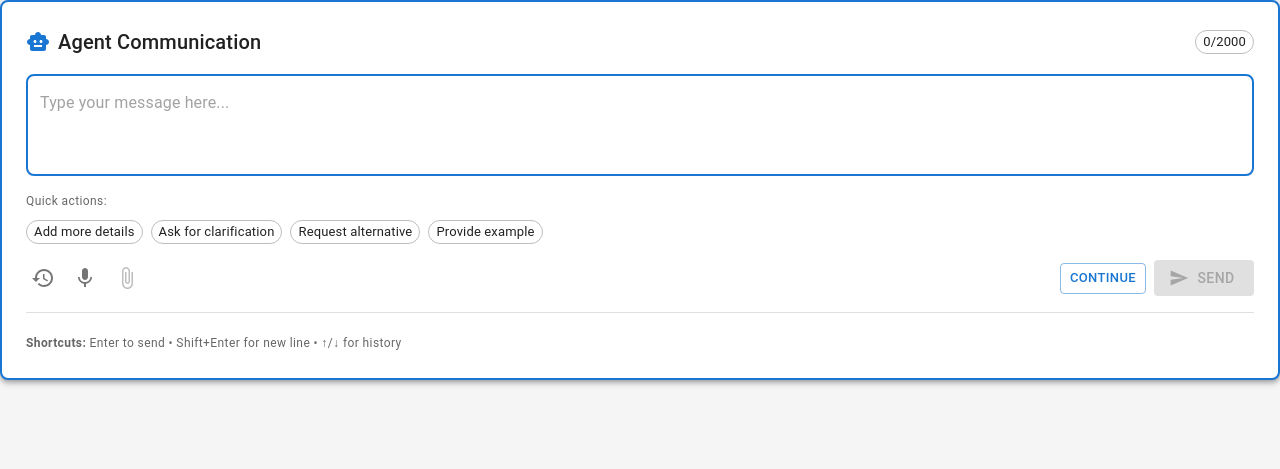
Test case: UserInputPanel › Error Handling › handles submission failure gracefully
The width and height of the screenshot is (1280, 469).
Type "Test message" into the text box with placeholder "Type your message here..." at x=640, y=125, box [40,90,1240,160]
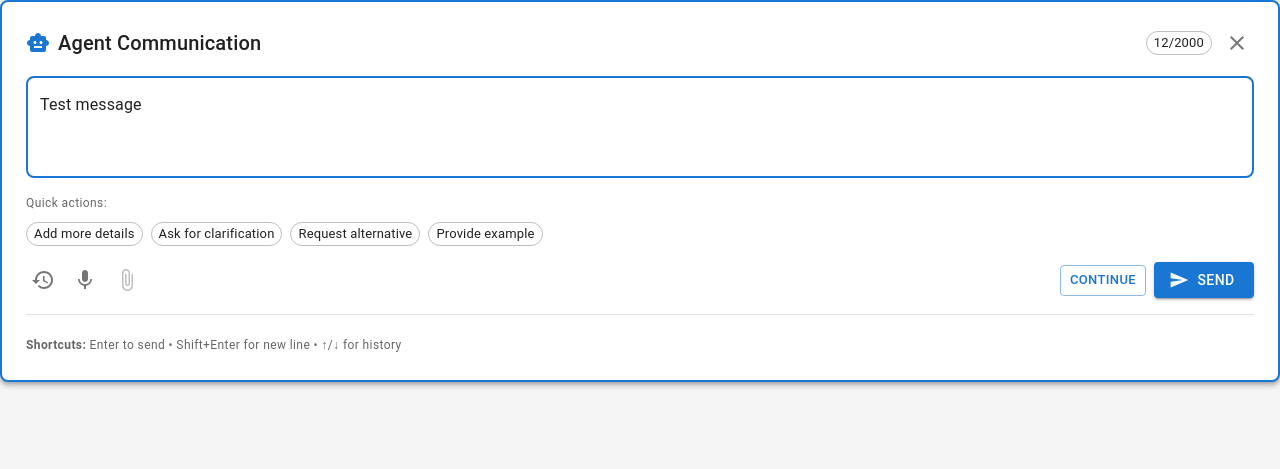
Click the button "Send" at x=1204, y=280, box [1154,262,1254,298]
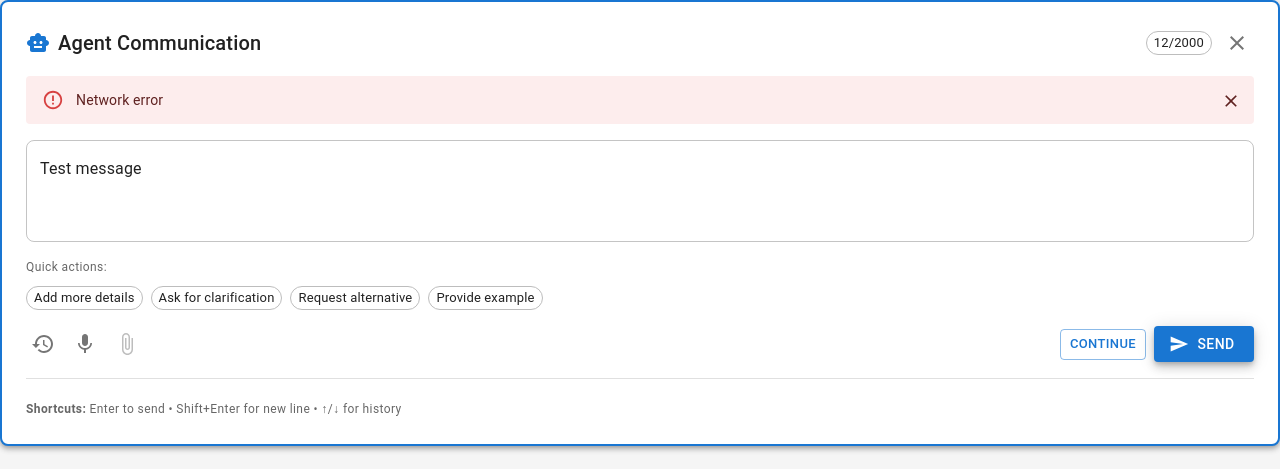
Check: the text "Network error" is shown, box [76,92,163,108]
